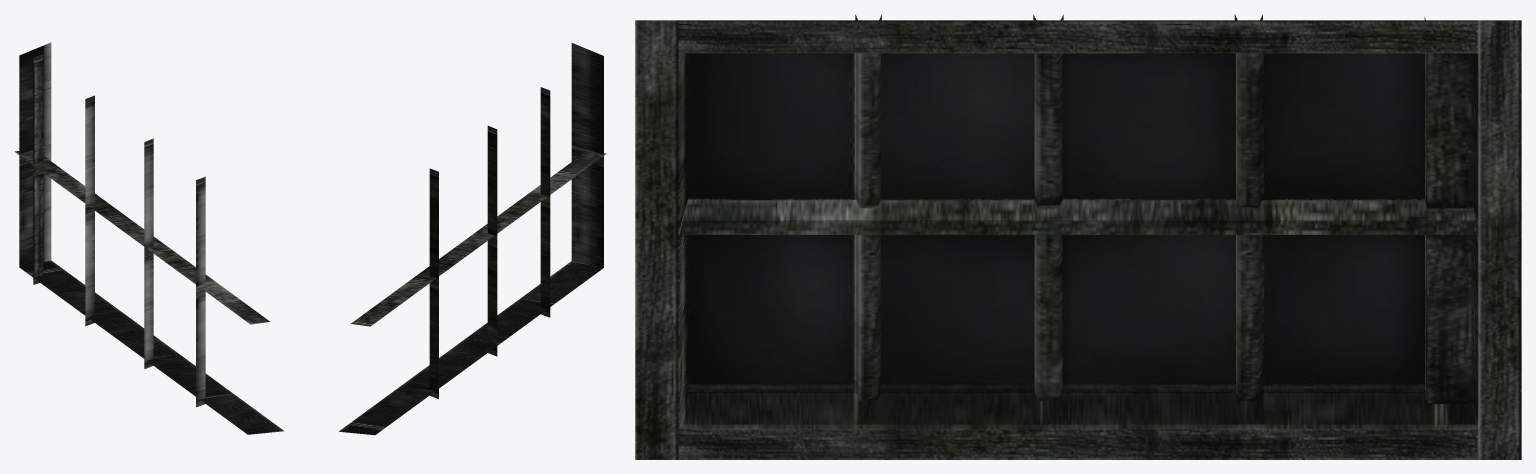
Rendered from window_black_a.glb.
3 views of the same model, side by side, from view 1: azimuth 30°, elevation 25°; view 2: azimuth 150°, elevation 25°; view 3: azimuth 270°, elevation 25° (orthographic). The views are drawn at different scales.
Size of the model in its own units: 7.02 by 46 by 84.
Materials: 1 (1 with a texture image).
